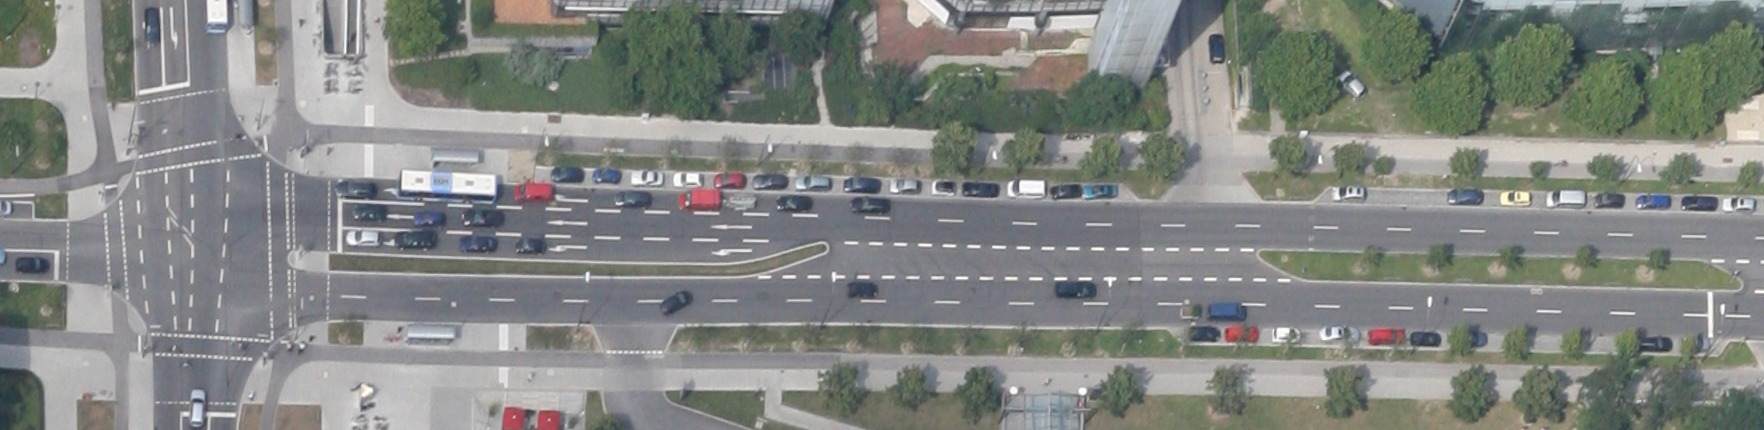car: (1335, 68, 1367, 99), (659, 288, 693, 316), (396, 229, 436, 250), (677, 188, 718, 209), (336, 178, 375, 199), (461, 208, 504, 227), (1546, 187, 1583, 208), (514, 182, 552, 203), (1054, 281, 1096, 299), (1007, 179, 1044, 198), (1207, 303, 1246, 321), (353, 201, 386, 223), (144, 7, 161, 46), (1318, 325, 1358, 342), (13, 256, 49, 274), (1368, 326, 1404, 344), (345, 229, 380, 247), (459, 235, 496, 252), (850, 196, 888, 213), (614, 190, 650, 207), (843, 176, 879, 192), (188, 388, 204, 427), (776, 195, 811, 212), (1444, 188, 1482, 204), (961, 181, 998, 197), (1633, 194, 1669, 209), (1331, 185, 1363, 201), (1640, 334, 1671, 352), (514, 238, 546, 254), (1208, 33, 1225, 64), (795, 174, 829, 190), (630, 168, 661, 185), (1271, 325, 1300, 343), (1680, 195, 1716, 209), (751, 174, 787, 189), (1082, 182, 1115, 198), (1189, 324, 1219, 341), (714, 171, 745, 188), (551, 165, 582, 182), (846, 281, 876, 298), (1225, 325, 1257, 341), (1722, 196, 1754, 212), (1498, 189, 1530, 205), (413, 210, 442, 227), (1050, 182, 1080, 198), (727, 194, 755, 210), (673, 170, 701, 187), (592, 167, 620, 183), (1408, 330, 1440, 344), (1593, 192, 1623, 207), (889, 178, 919, 192), (930, 179, 953, 195), (1180, 305, 1201, 319)
